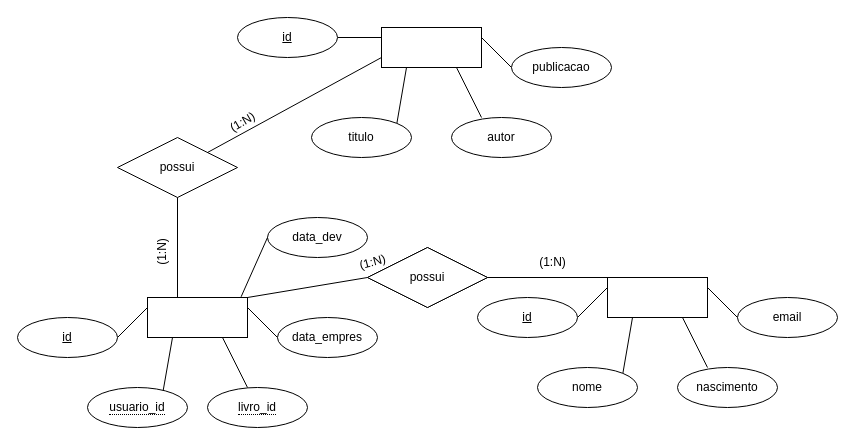
This 855x445 diagram has some shape labels left out. The shapes that lost their labels are listed below. From the top down, each one's box as (x1, y1, x2, y2) in pixels, then its label:
(380, 26, 482, 68): livros
(146, 296, 248, 338): emprestimos
(606, 276, 708, 318): usuarios
